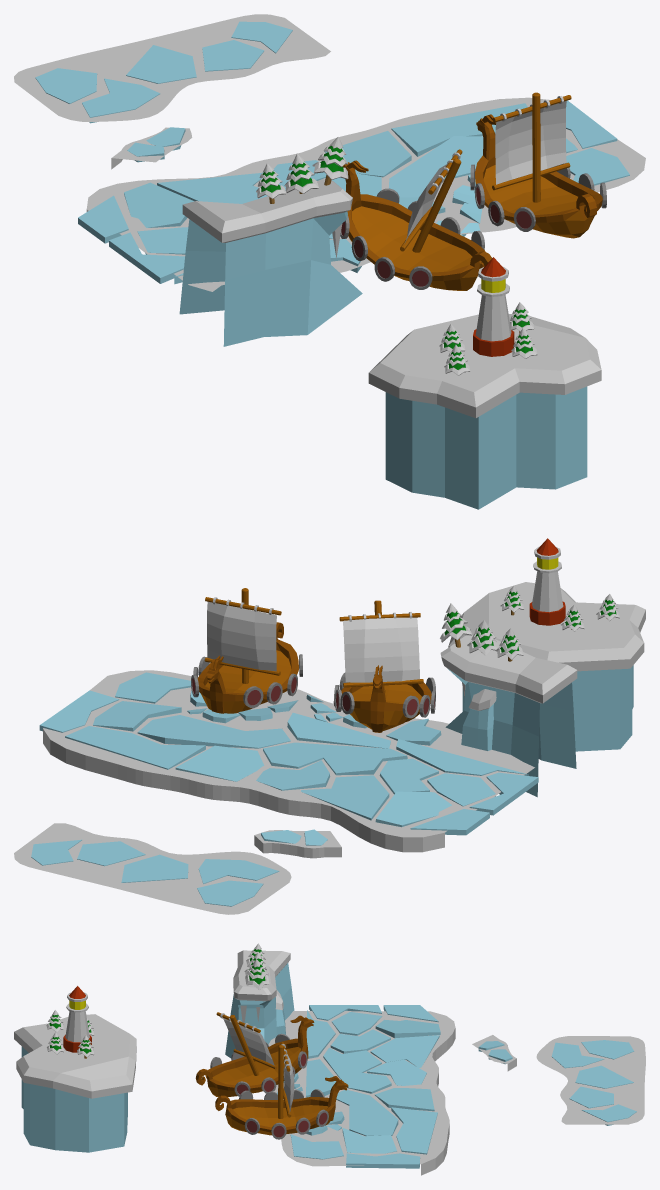
Rendered from Ice-Earth.fbx.
3 views of the same model, one above another, from view 1: azimuth 30°, elevation 25°; view 2: azimuth 150°, elevation 25°; view 3: azimuth 270°, elevation 25° (orthographic). The views are drawn at different scales.
Parts seen in each view (by area): view 1: IceEarth; view 2: IceEarth; view 3: IceEarth.
Part boxes in pixels (x1,y1,x2,y2): IceEarth: (14, 14, 645, 509); IceEarth: (14, 538, 645, 914); IceEarth: (14, 943, 645, 1175).
Bounding box in the file's own units: 5117 × 2375 × 8513.
